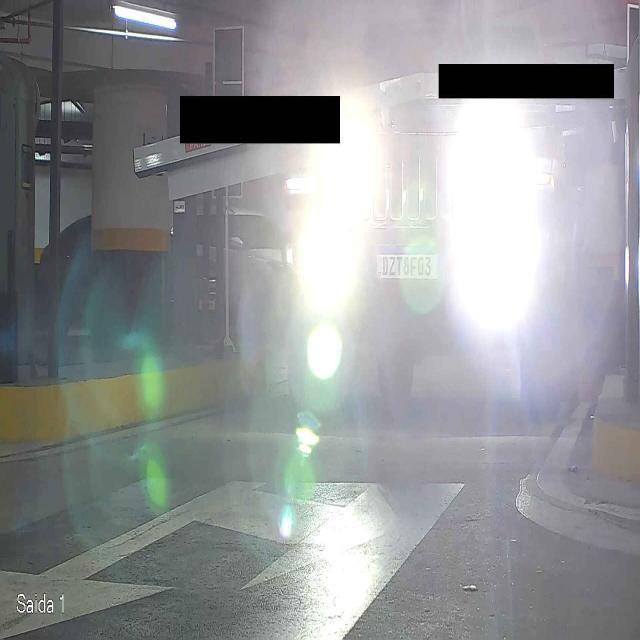mercosul_plate: (371, 243, 442, 282)
